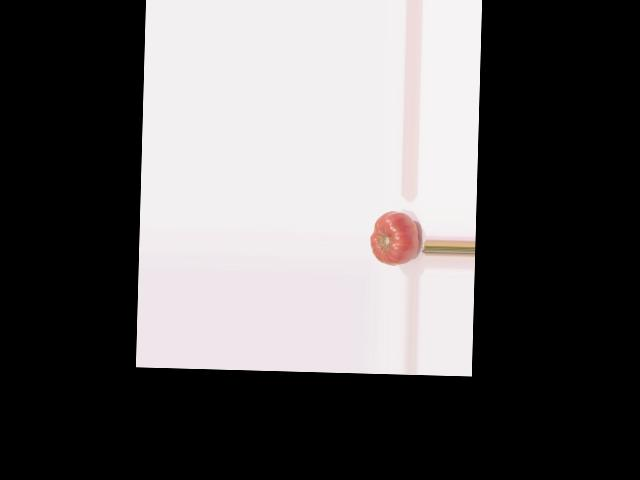tomato: (370, 211, 419, 265)
